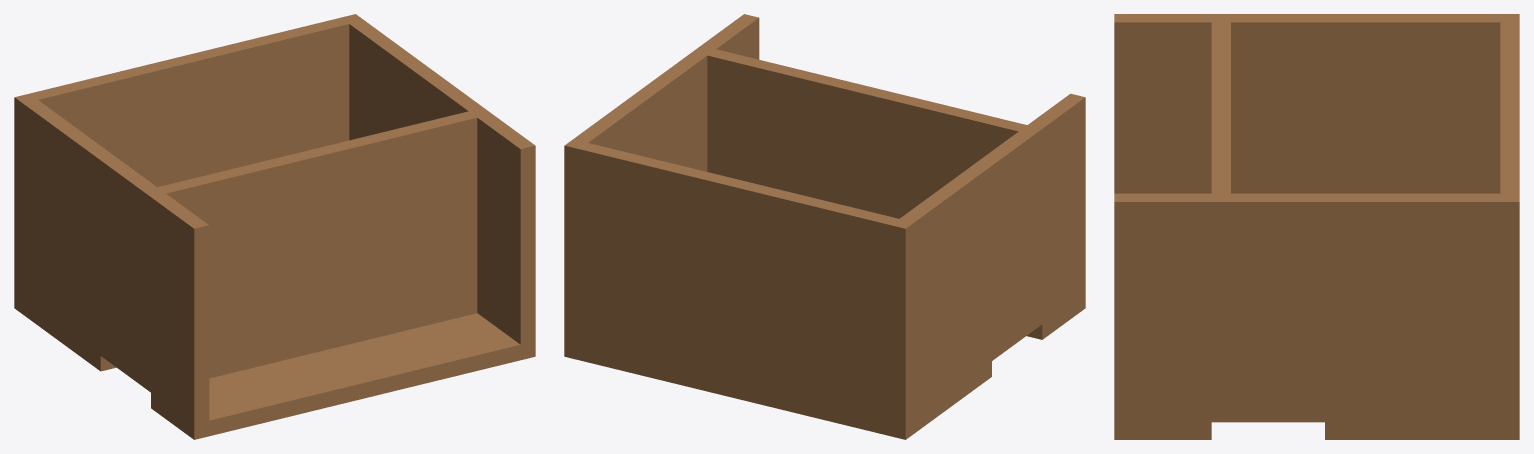
Rendered from tinker.obj.
3 views of the same model, side by side, from view 1: azimuth 30°, elevation 25°; view 2: azimuth 150°, elevation 25°; view 3: azimuth 270°, elevation 25° (orthographic). The views are drawn at different scales.
Parts seen in each view (by area): view 1: obj_0; view 2: obj_0; view 3: obj_0.
Boxes of the visible parts, x1,y1,x2,y2 form: obj_0: (14,14,535,439); obj_0: (564,14,1085,439); obj_0: (1114,14,1519,439).
Bounding box in the file's own units: 274 × 162 × 250.
